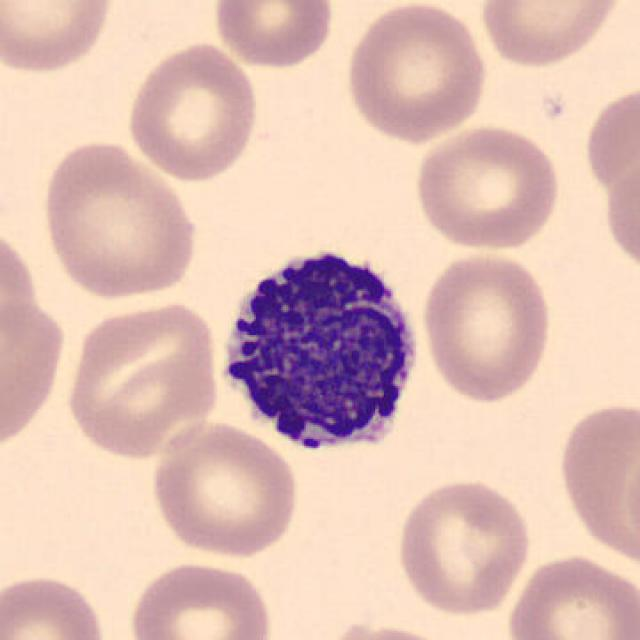Basophil: (206, 233, 428, 465)
RBC: (36, 136, 202, 303), (60, 296, 224, 462), (148, 418, 304, 561), (342, 0, 492, 145), (418, 247, 554, 405), (411, 120, 564, 254), (393, 474, 533, 619), (123, 39, 263, 183), (553, 395, 638, 569), (125, 557, 278, 640), (503, 550, 638, 640), (0, 285, 69, 456), (476, 0, 626, 71), (208, 0, 338, 71), (0, 0, 117, 77), (0, 567, 112, 640), (582, 80, 638, 206), (601, 154, 640, 280), (314, 622, 468, 640)
